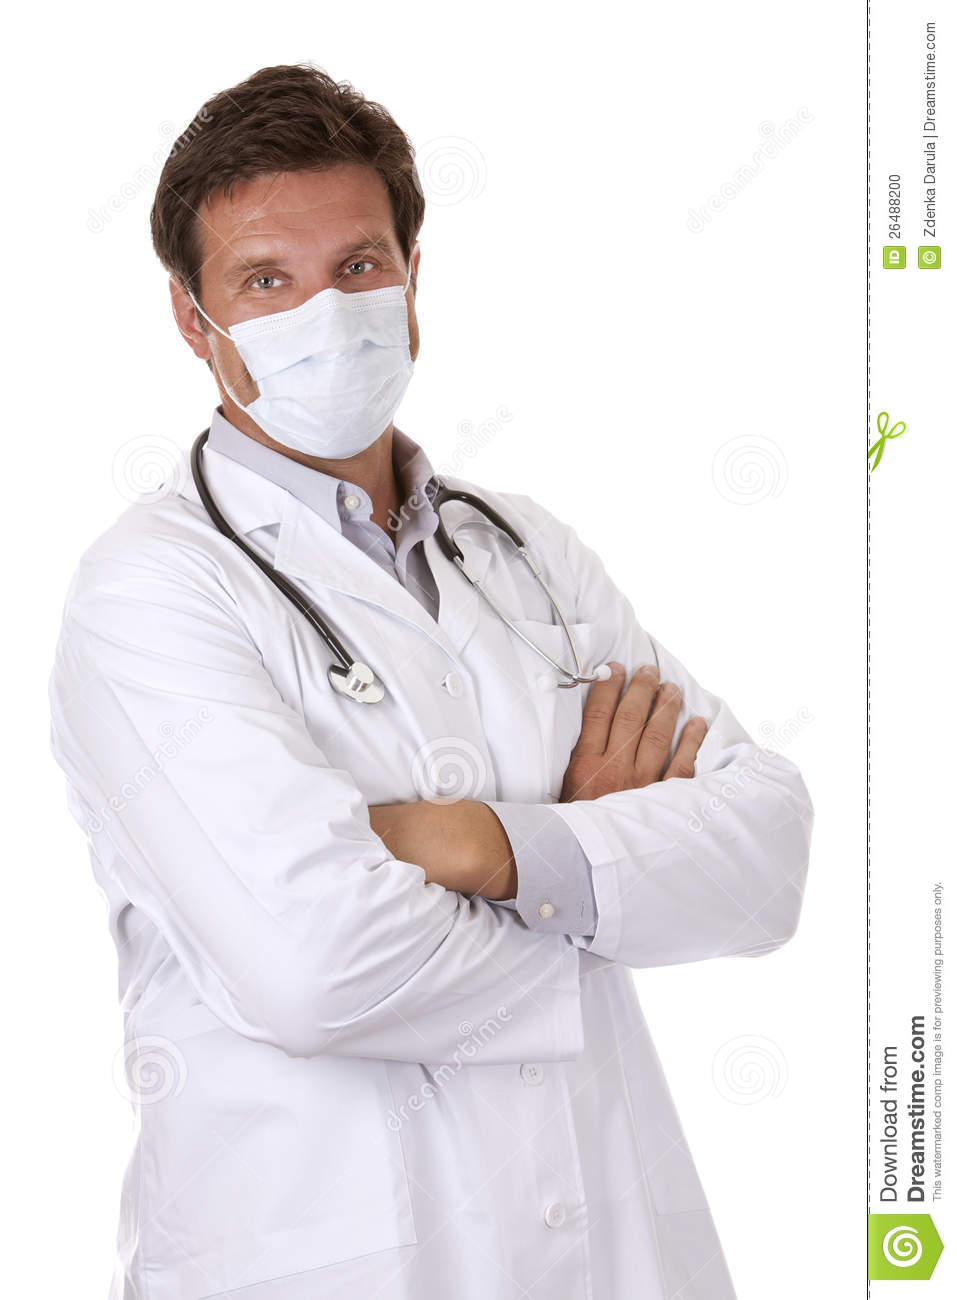mask: (226, 311, 446, 455)
